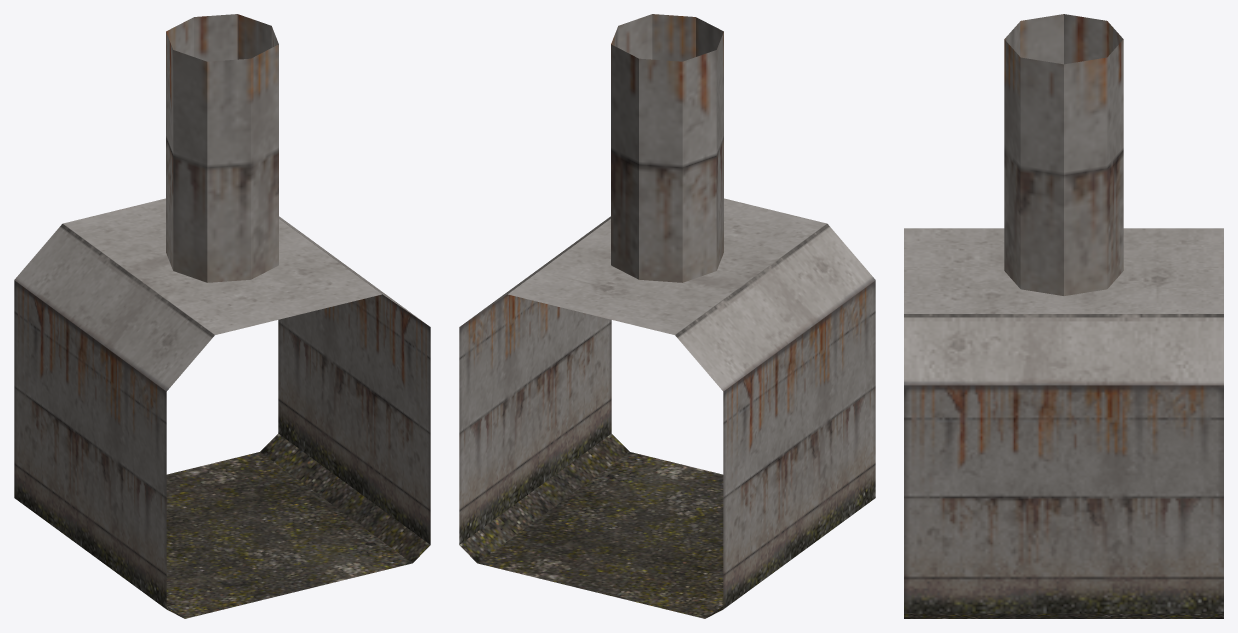
Rendered from MESH_ESGOTO_SAIDA_002.fbx.
3 renders of one model, left to right at view 1: azimuth 30°, elevation 25°; view 2: azimuth 150°, elevation 25°; view 3: azimuth 270°, elevation 25°, orthographic. The views are drawn at different scales.
Visible parts, largest first — view 1: MESH_ESGOTO_SAIDA.002; view 2: MESH_ESGOTO_SAIDA.002; view 3: MESH_ESGOTO_SAIDA.002.
Part boxes in pixels (x1,y1,x2,y2): MESH_ESGOTO_SAIDA.002: (14,14,430,618); MESH_ESGOTO_SAIDA.002: (459,14,875,618); MESH_ESGOTO_SAIDA.002: (904,14,1223,618).
Size of the model in its own units: 4 by 7.2 by 4.
